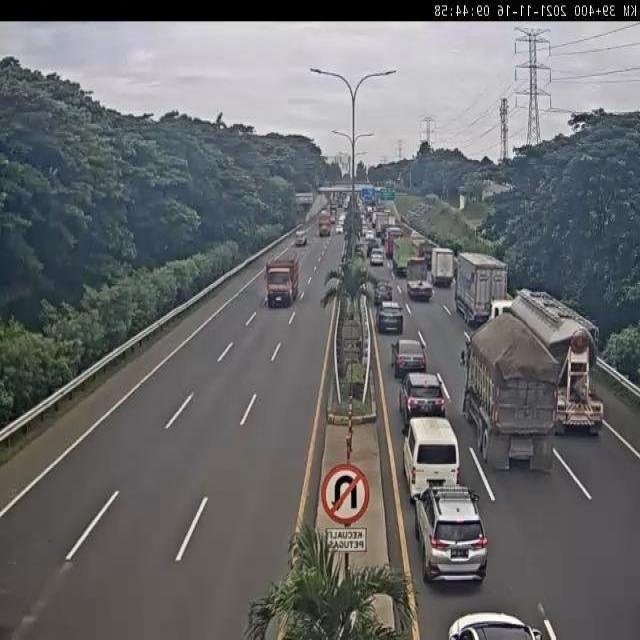Car: (412, 486, 489, 589), (443, 609, 541, 640), (396, 372, 446, 419), (391, 338, 426, 375), (376, 299, 404, 335), (371, 278, 392, 303), (369, 246, 384, 265), (365, 229, 376, 241)
Truck: (488, 288, 608, 438), (458, 311, 554, 469), (452, 250, 508, 324), (264, 252, 300, 310), (405, 256, 434, 300), (430, 245, 457, 285), (392, 233, 416, 276), (317, 207, 333, 236)
Van: (400, 414, 461, 500)
